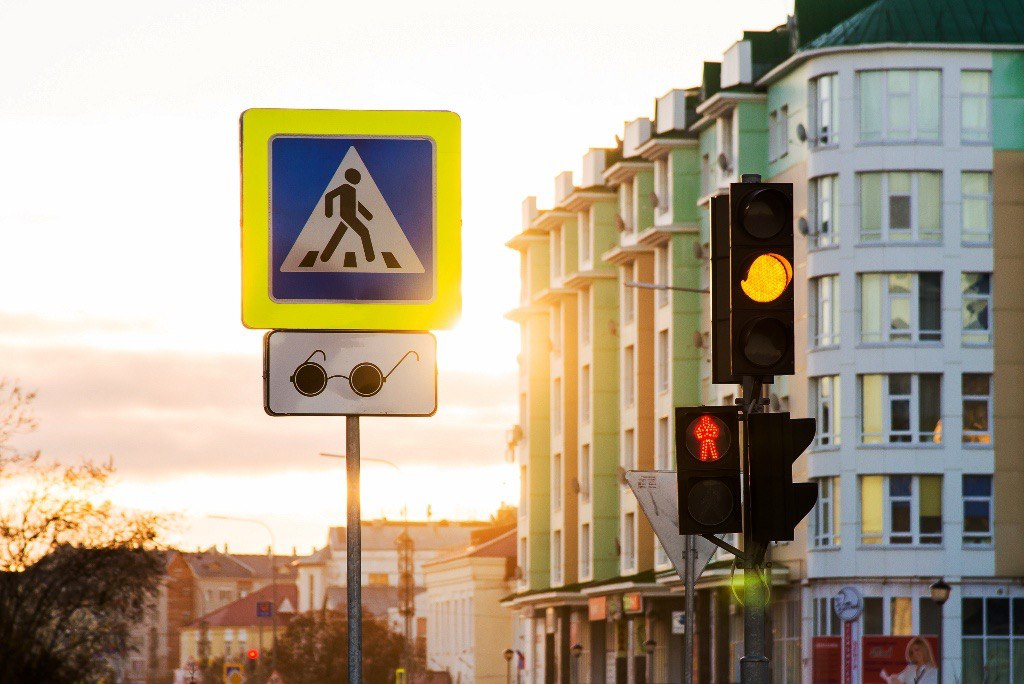tl: (725, 180, 797, 378), (746, 413, 819, 540), (677, 400, 740, 534)
